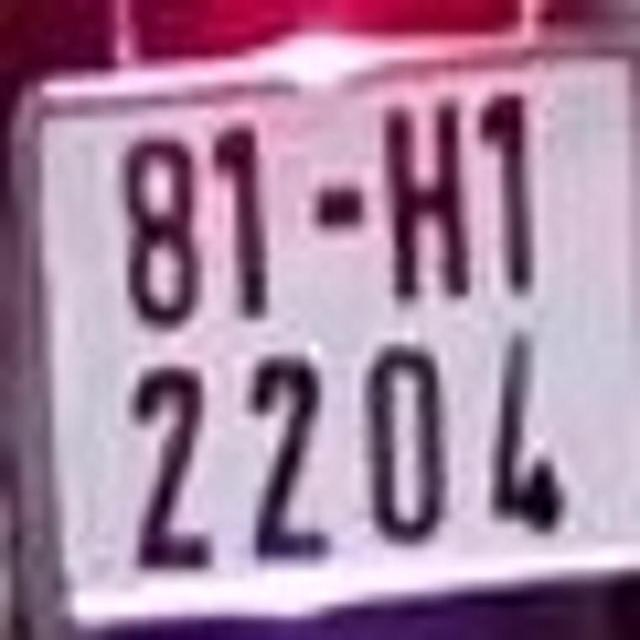0: (370, 348, 443, 543)
1: (215, 125, 280, 320), (485, 97, 535, 289)
2: (247, 353, 330, 560), (135, 362, 219, 565)
4: (486, 330, 564, 536)
8: (128, 134, 202, 326)
H: (382, 105, 469, 290)
